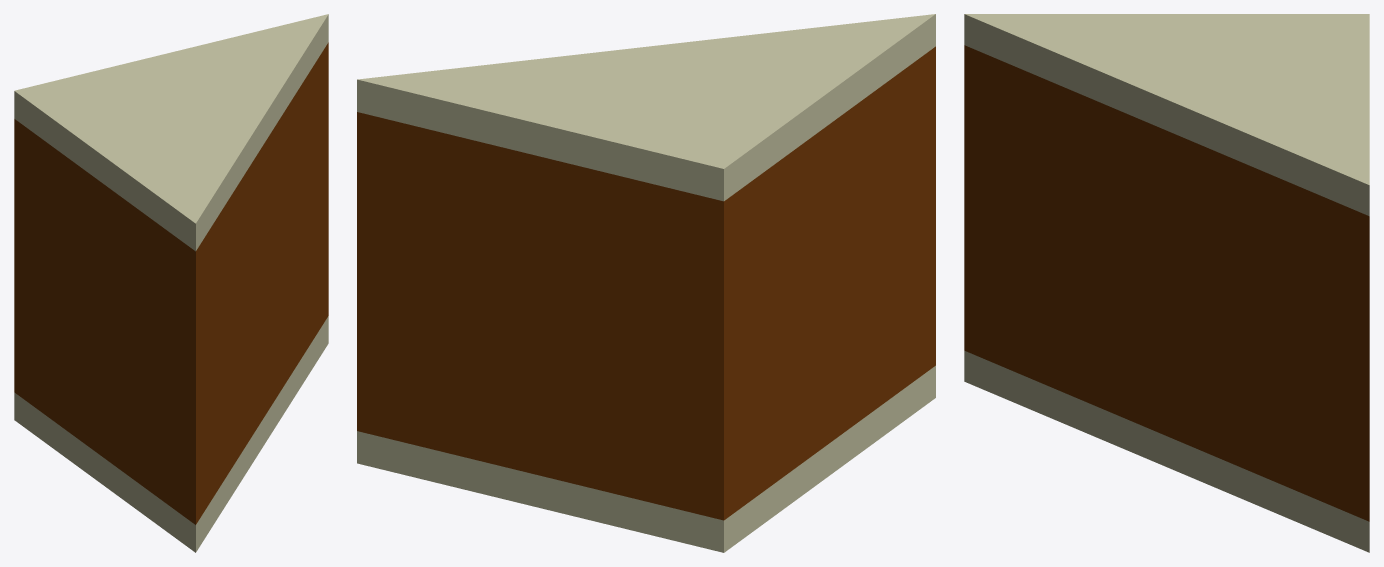
3 views of the same model, side by side, from view 1: azimuth 30°, elevation 25°; view 2: azimuth 150°, elevation 25°; view 3: azimuth 270°, elevation 25° (orthographic). The views are drawn at different scales.
Parts seen in each view (by area): view 1: 斜坡.001; view 2: 斜坡.001; view 3: 斜坡.001.
Boxes of the visible parts, box(x1,y1,x2,y2) form: 斜坡.001: box(14, 14, 328, 552); 斜坡.001: box(357, 14, 935, 552); 斜坡.001: box(964, 14, 1369, 552).
Bounding box in the file's own units: 200 × 200 × 200.
